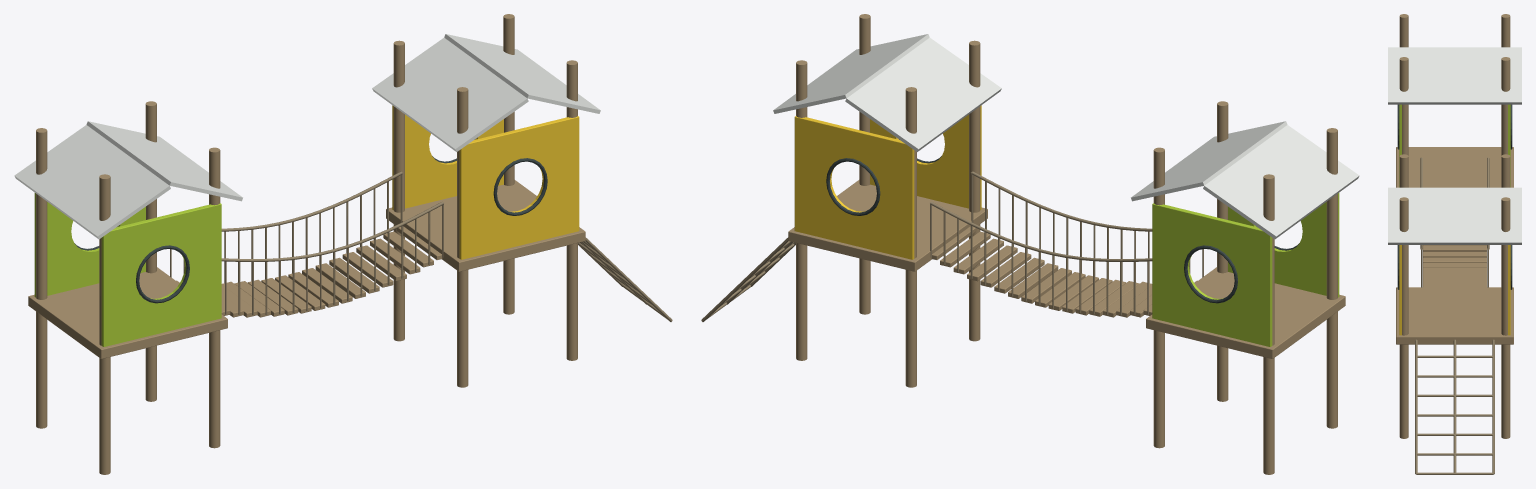
Rendered from valade-play-towers.glb.
3 views of the same model, side by side, from view 1: azimuth 30°, elevation 25°; view 2: azimuth 150°, elevation 25°; view 3: azimuth 270°, elevation 25° (orthographic). The views are drawn at different scales.
Visible parts, largest first — view 1: Timber tower stilt, Tower pitched roof, Colored tower siding, Colored tower siding.002, Rope bridge handline, Torus; view 2: Timber tower stilt, Tower pitched roof, Colored tower siding, Colored tower siding.002, Rope bridge handline, Torus; view 3: Timber tower stilt, Tower pitched roof, Rope bridge handline, Colored tower siding.002, Torus, Colored tower siding.
Boxes of the visible parts, x1,y1,x2,y2 form: Timber tower stilt: (28,14,585,474); Tower pitched roof: (14,34,600,239); Colored tower siding: (34,193,221,346); Colored tower siding.002: (392,105,579,259); Rope bridge handline: (170,171,672,321); Torus: (74,139,547,303); Timber tower stilt: (788,14,1345,474); Tower pitched roof: (773,34,1359,239); Colored tower siding: (1152,193,1339,346); Colored tower siding.002: (794,105,981,259); Rope bridge handline: (701,171,1203,321); Torus: (826,139,1299,303); Timber tower stilt: (1396,14,1513,438); Tower pitched roof: (1388,47,1521,244); Rope bridge handline: (1415,157,1494,474); Colored tower siding.002: (1399,245,1510,335); Torus: (1397,104,1512,289); Colored tower siding: (1399,104,1510,187).
Size of the model in its own units: 10.27 by 4.9 by 2.5.
